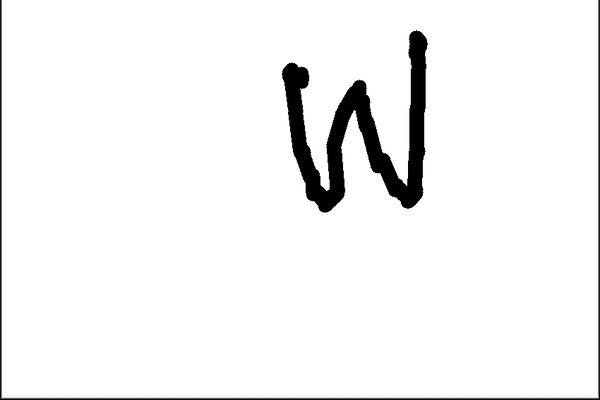w: (266, 20, 441, 222)
